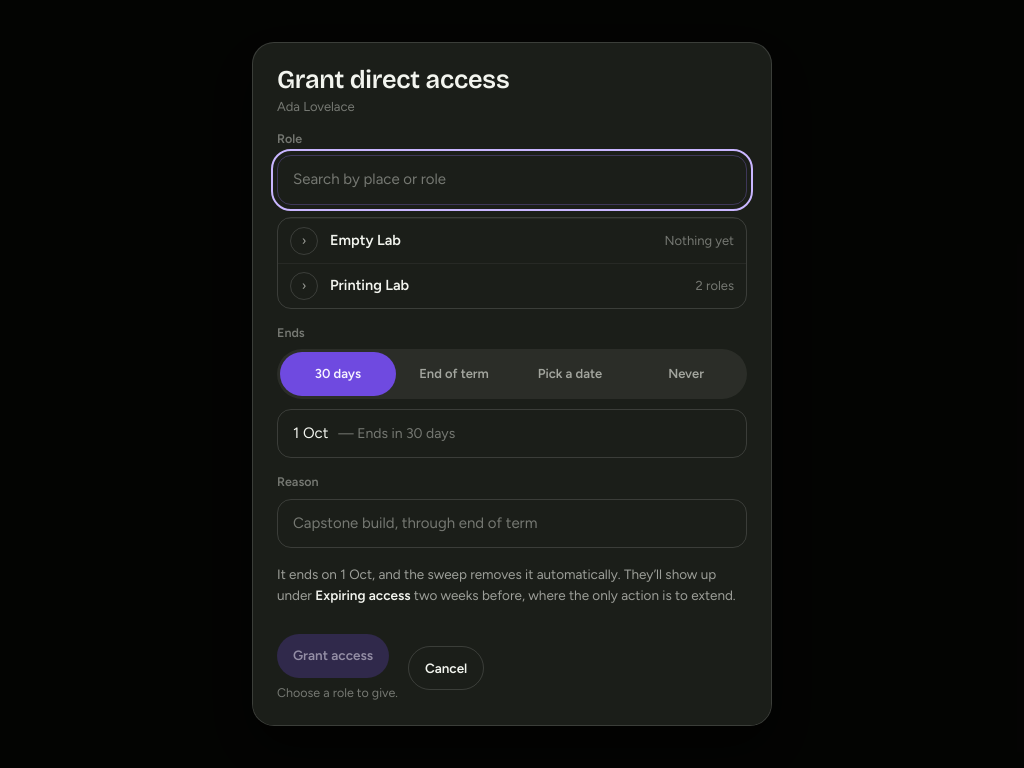
Test: GrantDirectAccess · End of term › falls back to 18 December when the setting can't be read
The image size is (1024, 768).
Click the radio button labelled "End of term".
click(454, 374)  # box [396,352,512,396]
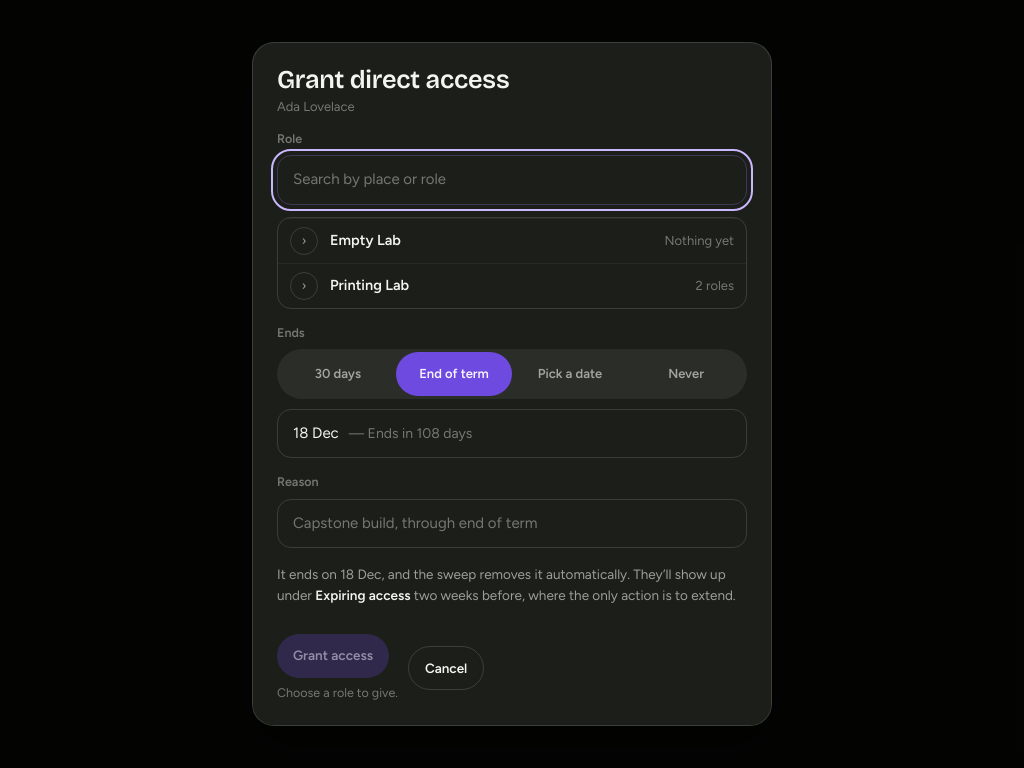
Expected: the text "18 Dec" is shown, [293,424,339,442]
